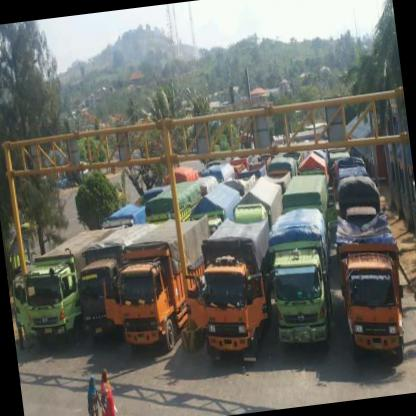truck: (340, 252, 409, 368), (197, 257, 264, 368), (268, 248, 334, 360), (115, 255, 178, 364), (21, 262, 81, 353)
